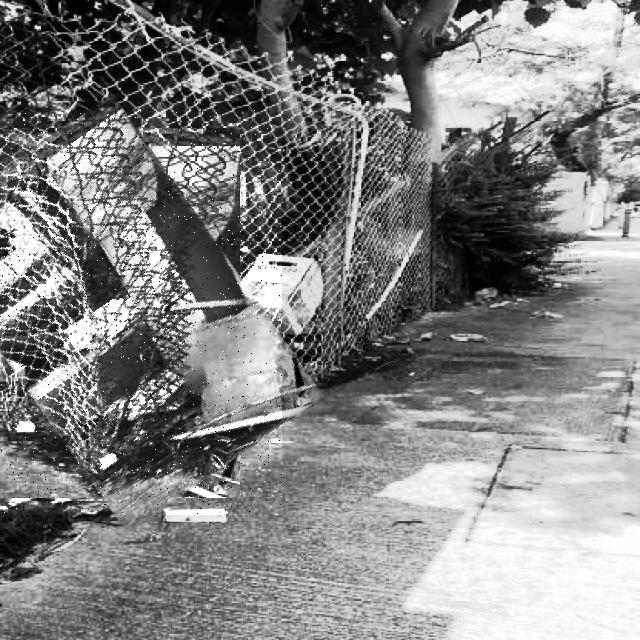anomaly-fence: (0, 110, 282, 515)
